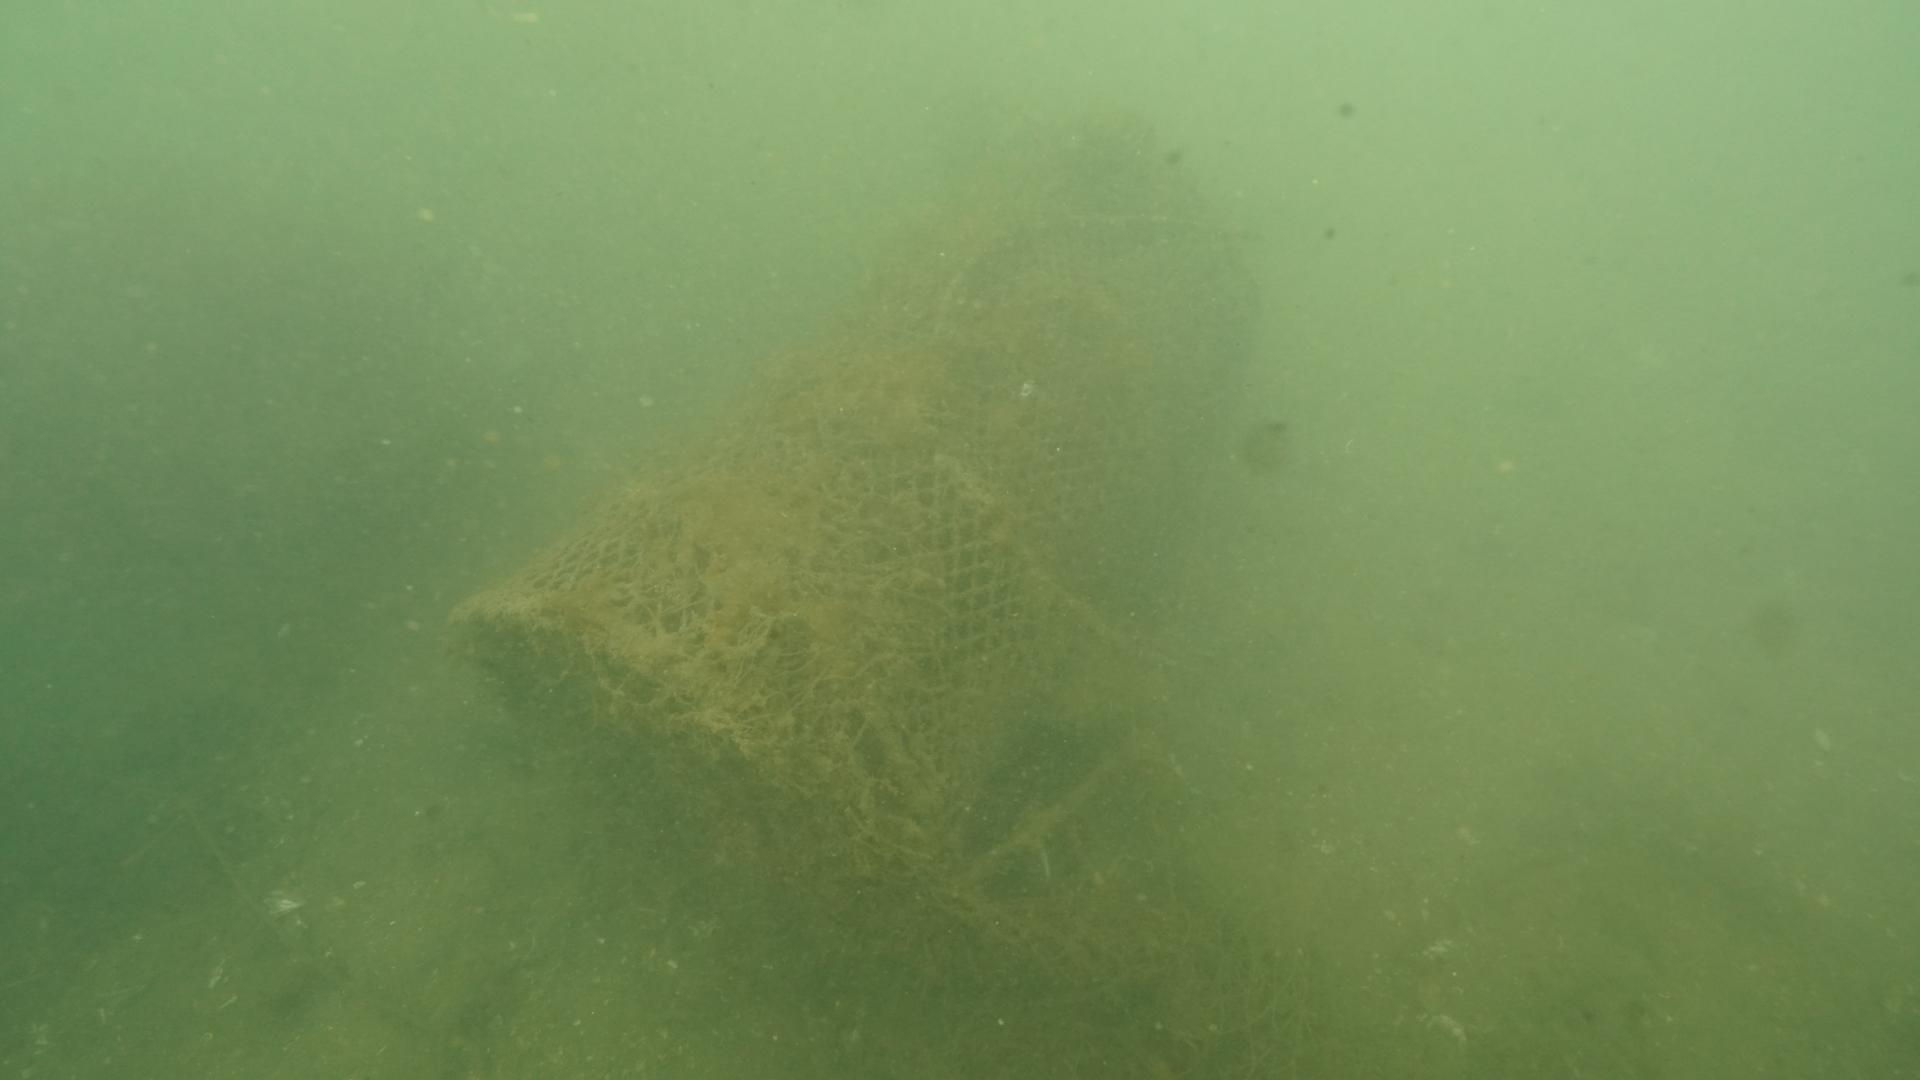spring fish trap: (444, 115, 1261, 914)
